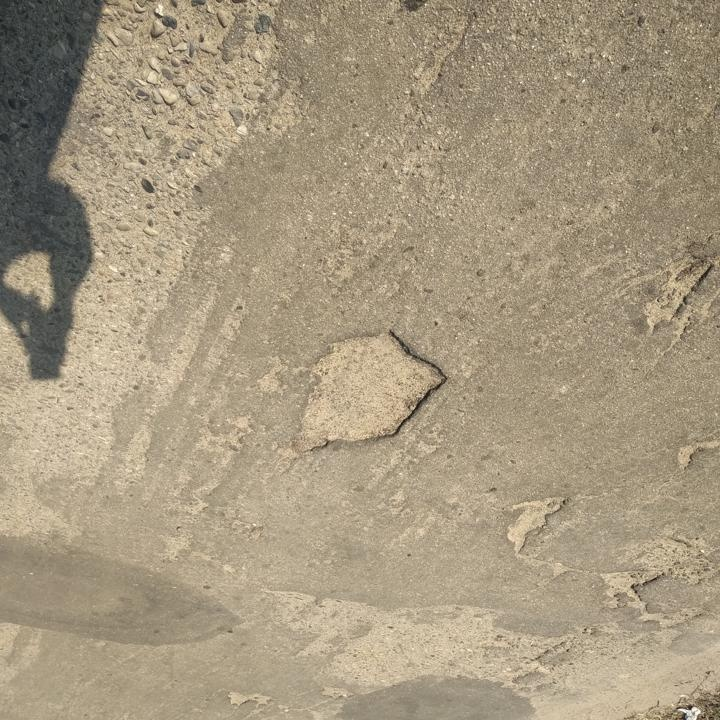pothole: (286, 327, 450, 461), (639, 258, 714, 336), (503, 491, 571, 556), (594, 564, 666, 610)
